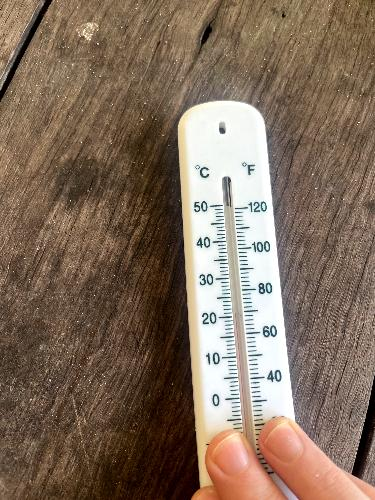thermo: (167, 96, 309, 500)
